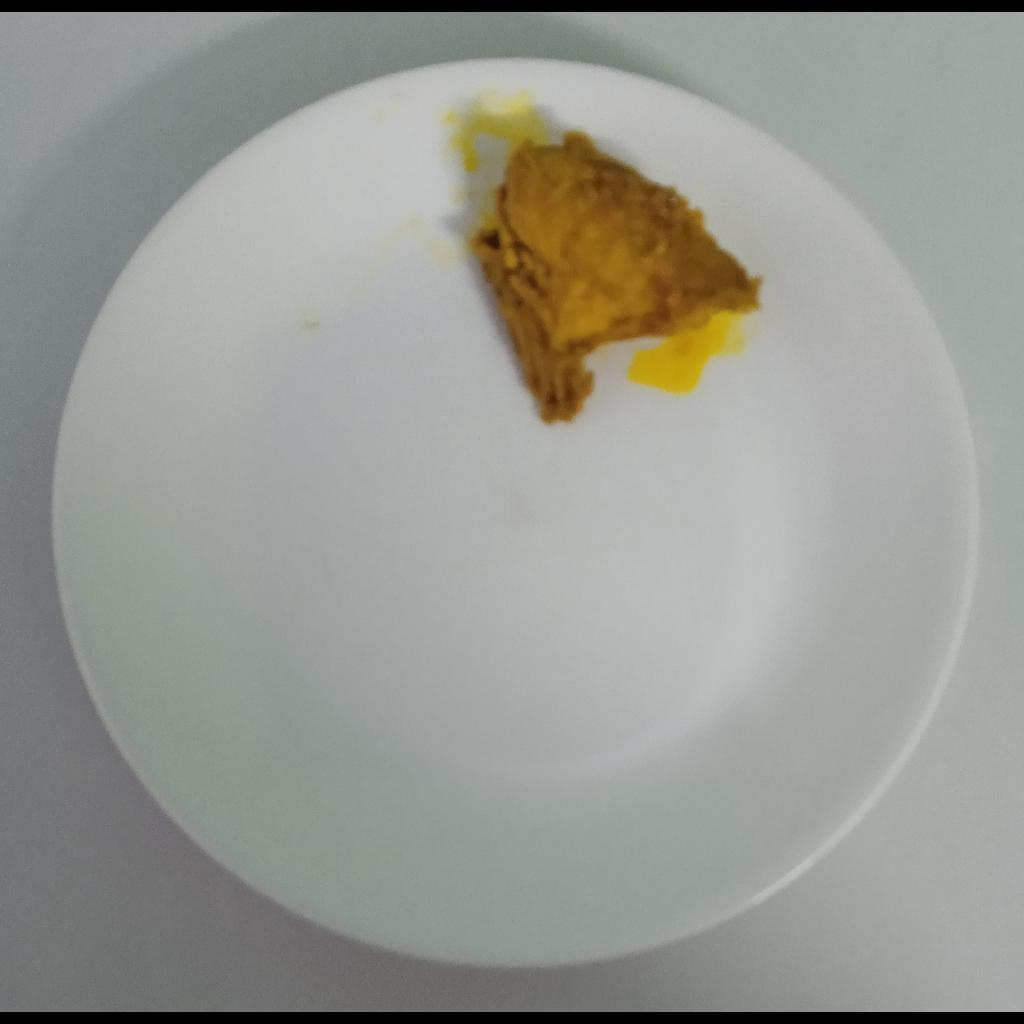chicken: (475, 132, 764, 427)
